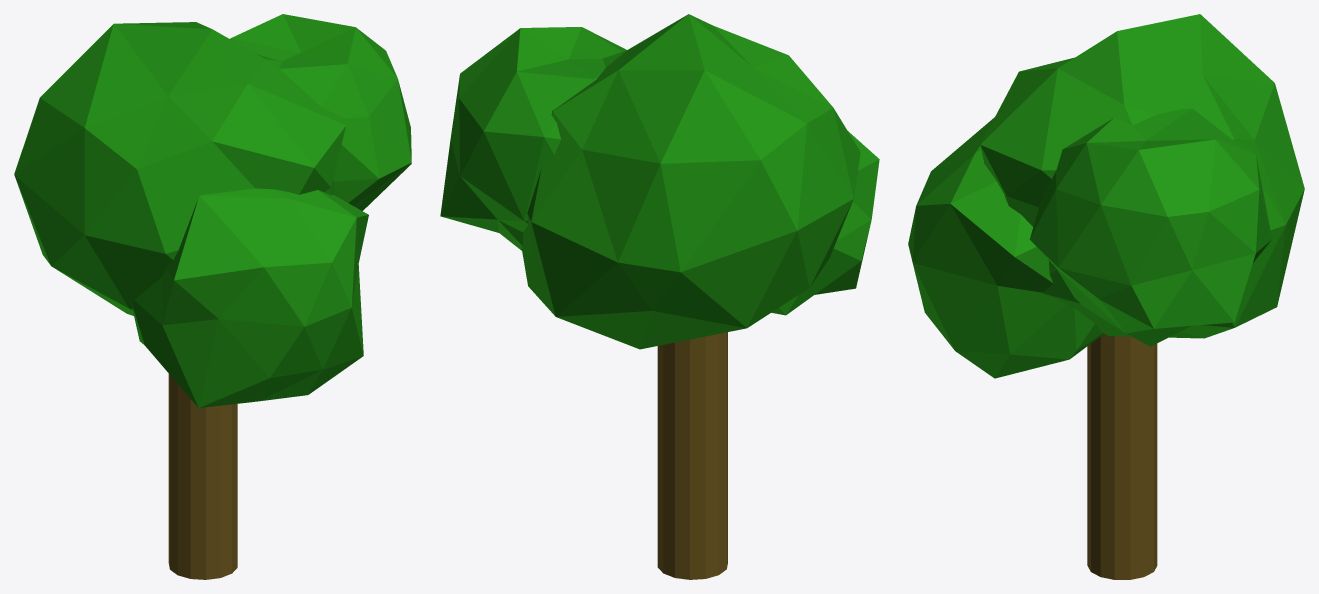
File: Tree3.fbx
3 views of the same model, side by side, from view 1: azimuth 30°, elevation 25°; view 2: azimuth 150°, elevation 25°; view 3: azimuth 270°, elevation 25° (orthographic). The views are drawn at different scales.
Visible parts, largest first — view 1: Circle.002; view 2: Circle.002; view 3: Circle.002.
Boxes of the visible parts, x1,y1,x2,y2 form: Circle.002: (14, 14, 411, 579); Circle.002: (440, 14, 879, 579); Circle.002: (908, 14, 1304, 579).
Bounding box in the file's own units: 72.07 × 101 × 67.7.
